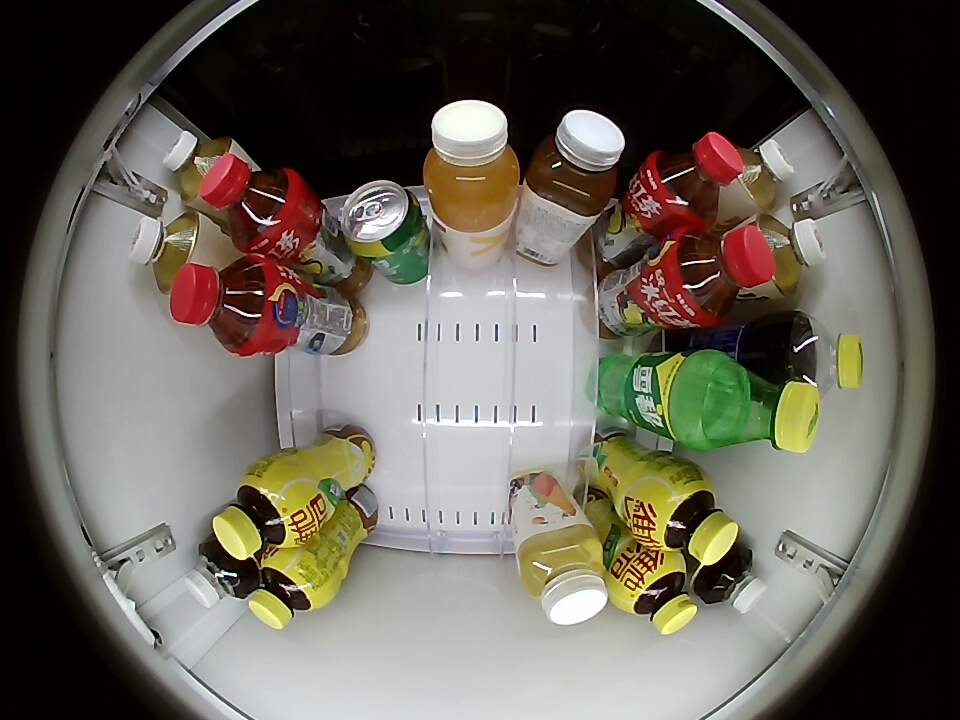baishikele: (784, 314, 864, 396)
binghongcha: (669, 222, 775, 326), (169, 257, 277, 356), (198, 153, 303, 253), (643, 131, 742, 227)
chapai: (524, 109, 626, 216)
chapai2: (516, 525, 608, 626)
rancha-2: (751, 215, 826, 299), (129, 211, 203, 290), (164, 130, 235, 205), (728, 139, 794, 214)
weic: (423, 100, 521, 232)
weitaningmeng-bottle: (637, 468, 740, 567), (212, 464, 312, 560), (613, 553, 698, 636), (248, 550, 330, 630)
wulongcha: (696, 548, 767, 614), (184, 539, 251, 608)
xuebi-b: (702, 355, 821, 452)
xuebi2: (341, 181, 425, 259)
